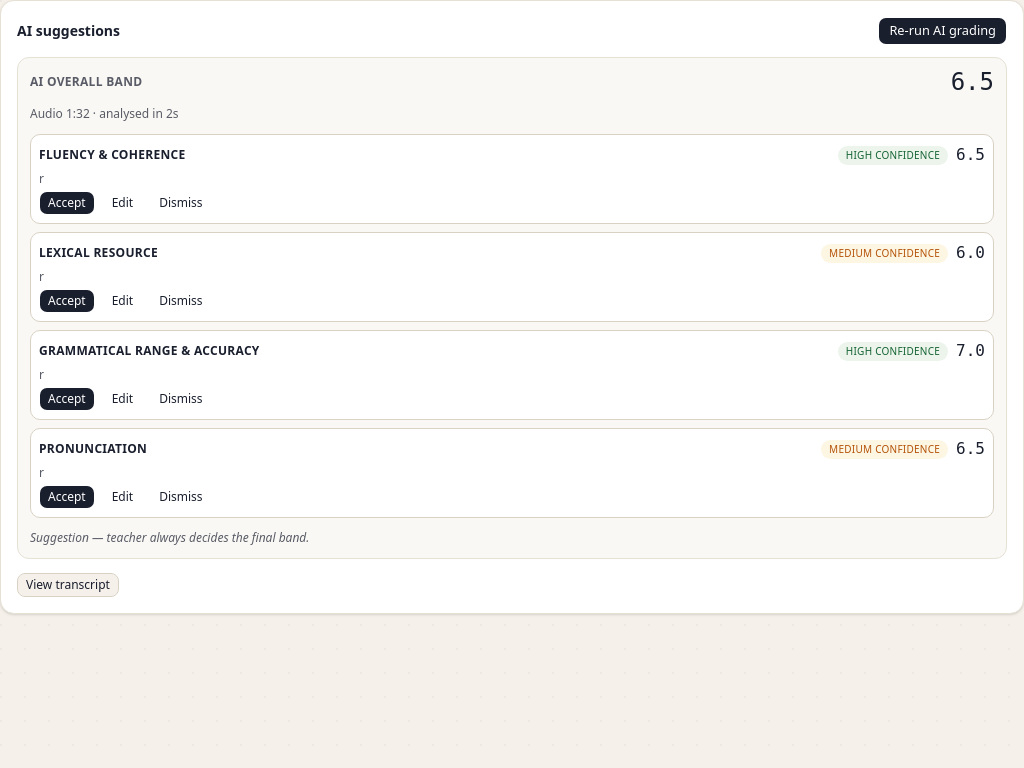
Test: AiSpeakingGradePanel — accessibility (AC20) › the open confirm dialog has no axe violations
Click the button with test id "ai-speaking-run": (943, 31) [878,17,1007,45]
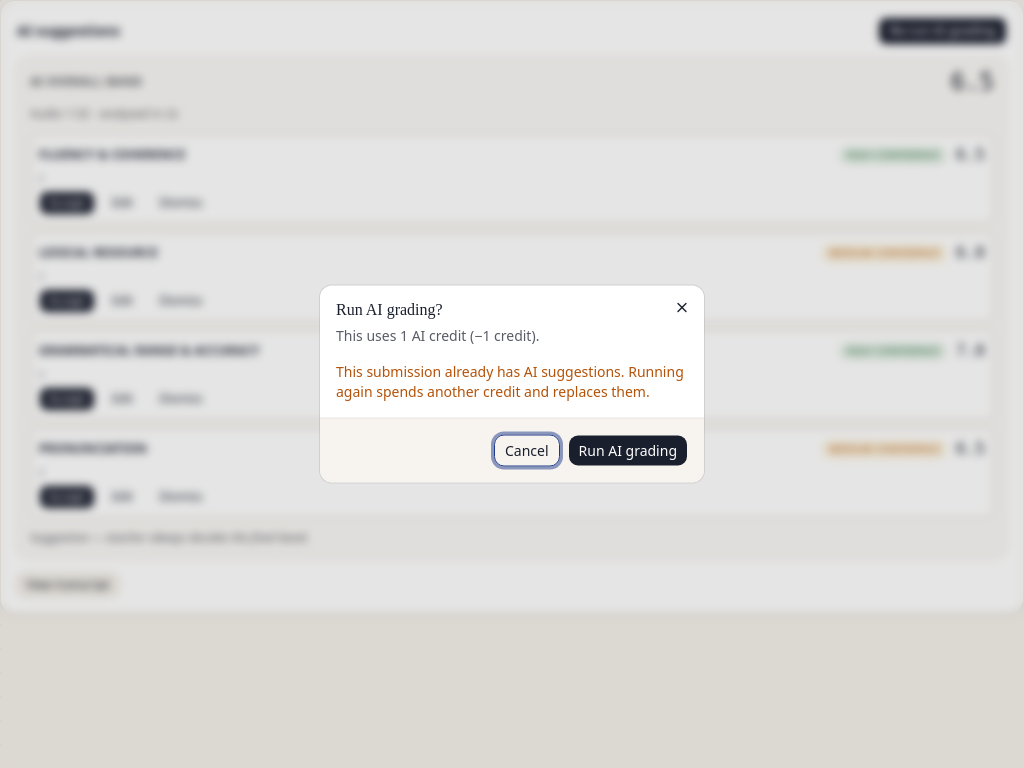
Check: the dialog with test id "ai-grade-confirm-dialog" is shown, box [320,286,704,482]
